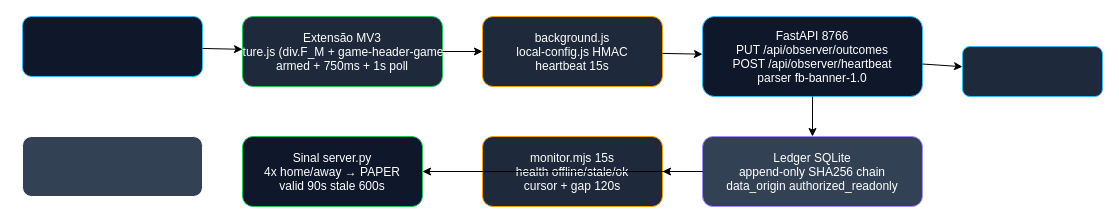
The diagram is 1119 pixels wide and 223 high, and some of its shapes have lost their labels. Here are the shapes that lost their labels. From the top down, the box of each, then its label:
(22, 16, 202, 76): Zona de Jogo (client/games.pragmaticplaylive.net)
(962, 46, 1102, 96): WS broadcast {kind:event}
(22, 136, 202, 196): web/index.html somente leitura
